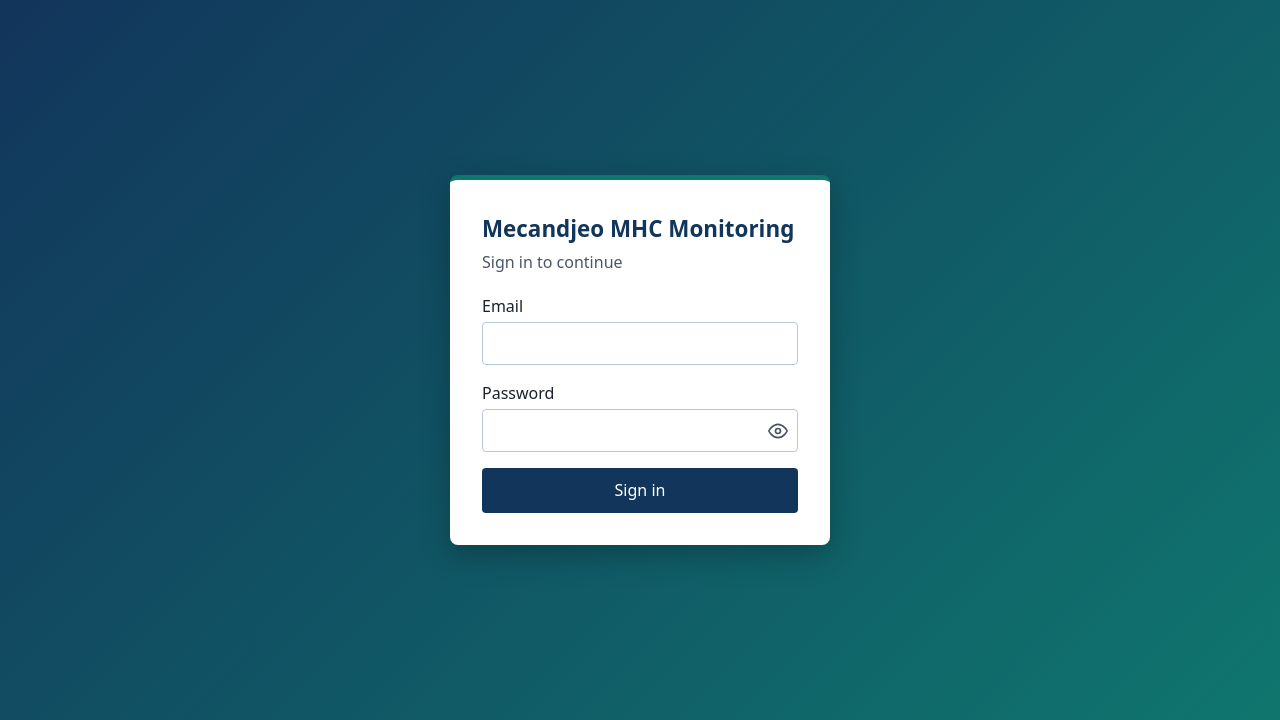
Scenario: LoginPage › shows the server message for a wrong email or password
The width and height of the screenshot is (1280, 720).
Type "operator1@example.com" into the field labelled "Email" at (640, 344), box [482,322,798,365]
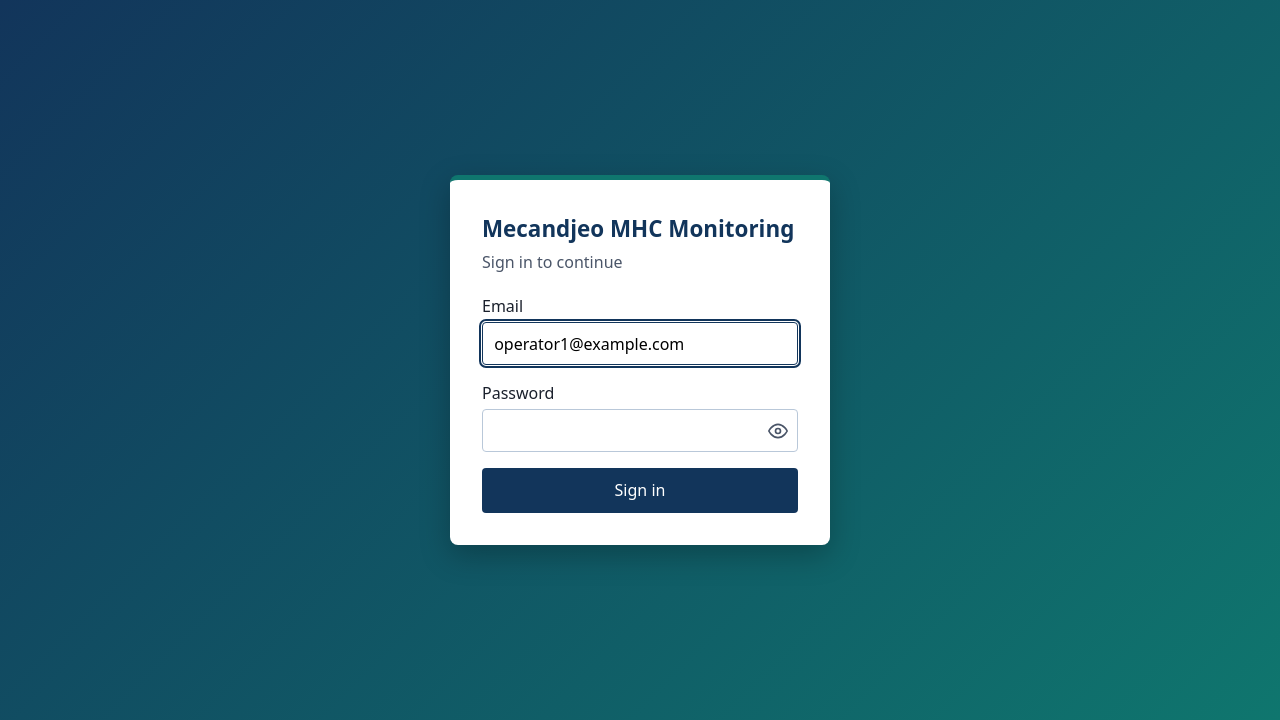
Type "wrong" into the password field labelled "Password" at (640, 431), box [482,409,798,452]
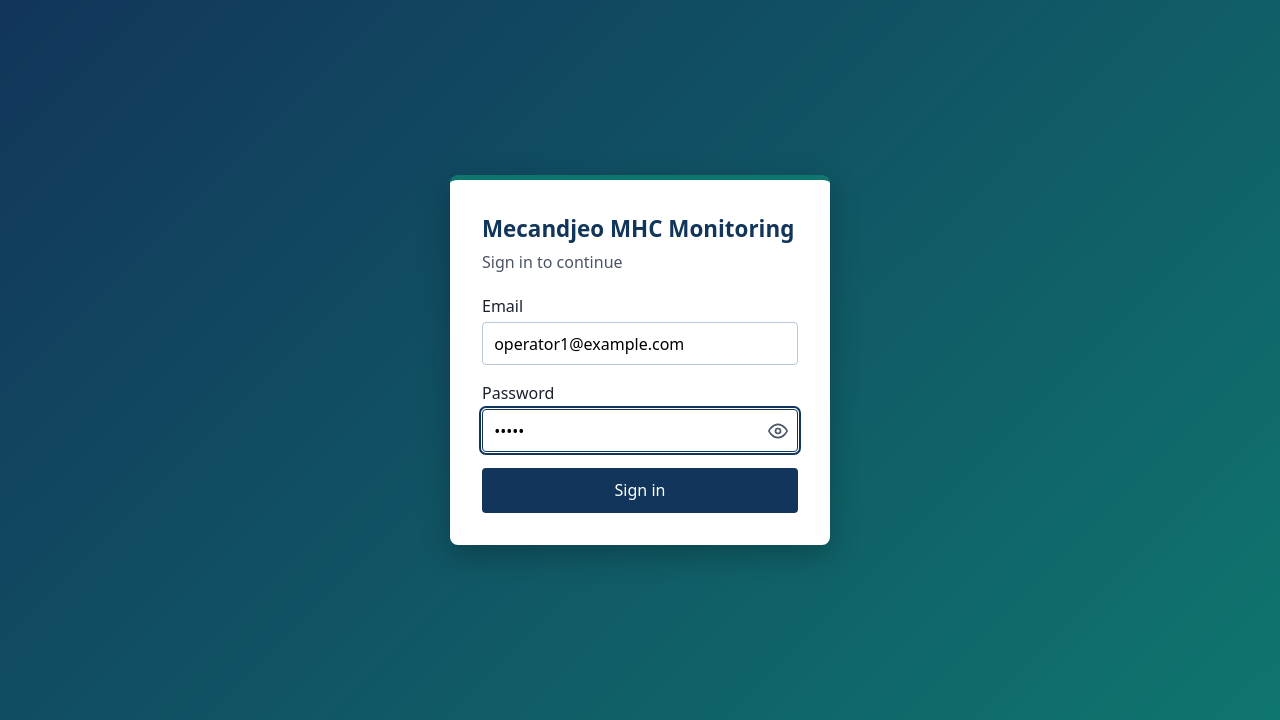
Click the button "Sign in" at (640, 490), box [482,468,798,513]
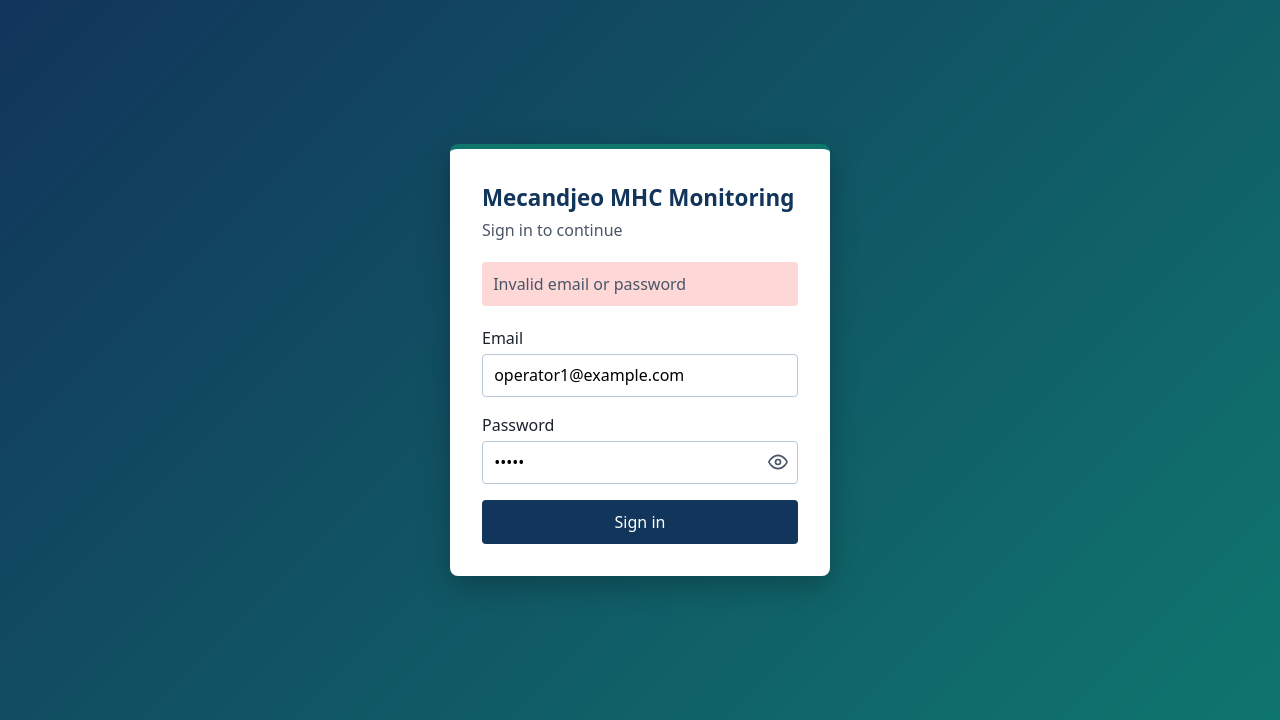
Result: the message reads "Invalid email or password" at [493,273,686,295]
